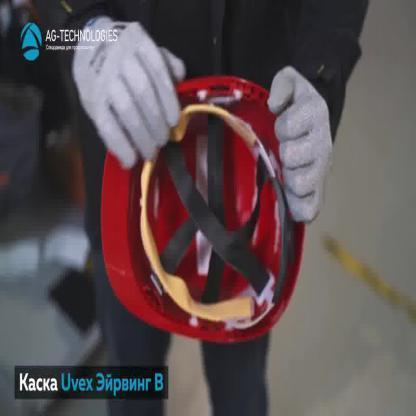gloves: (72, 13, 186, 170), (267, 67, 335, 225)
helmet: (99, 74, 307, 346)
